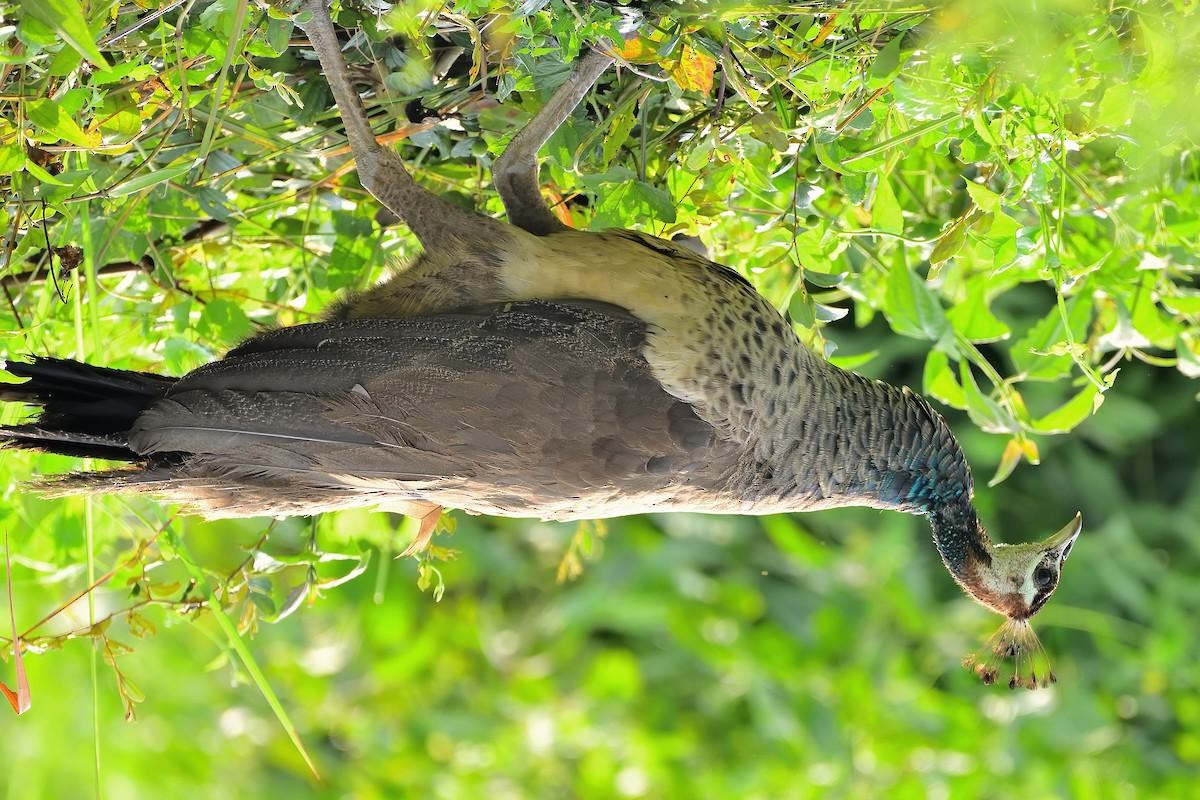peacock: (17, 22, 1106, 716)
